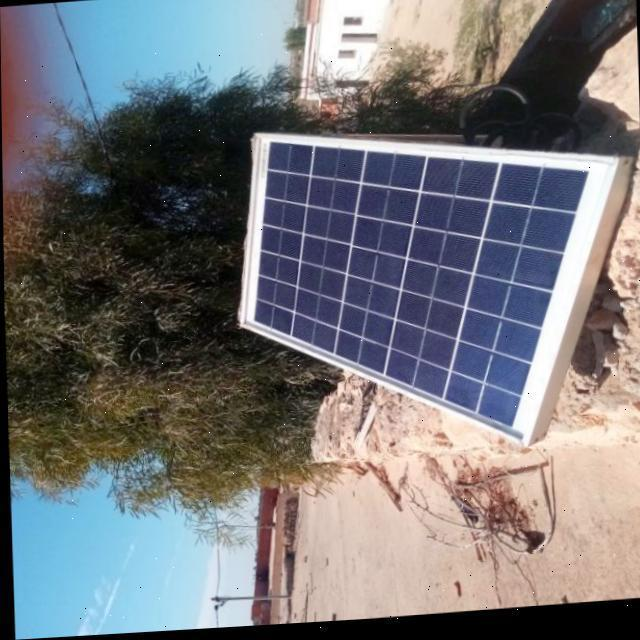Normal Solar Panel: (234, 110, 626, 468)
